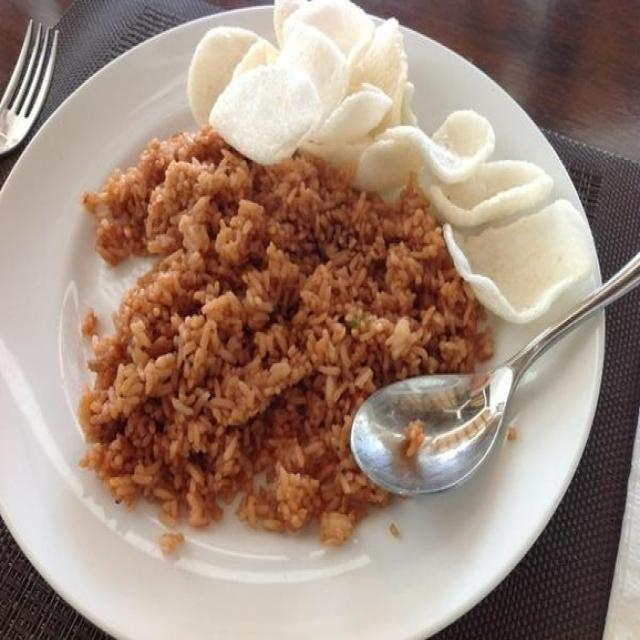米饭主食: (60, 77, 537, 562)
